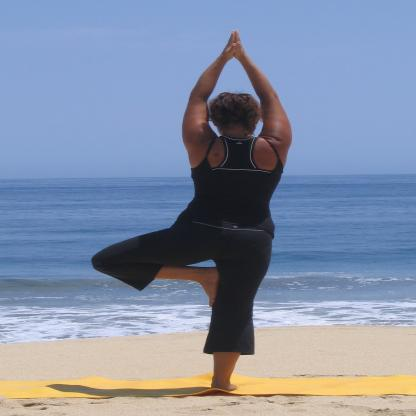tree: (84, 23, 316, 394)
